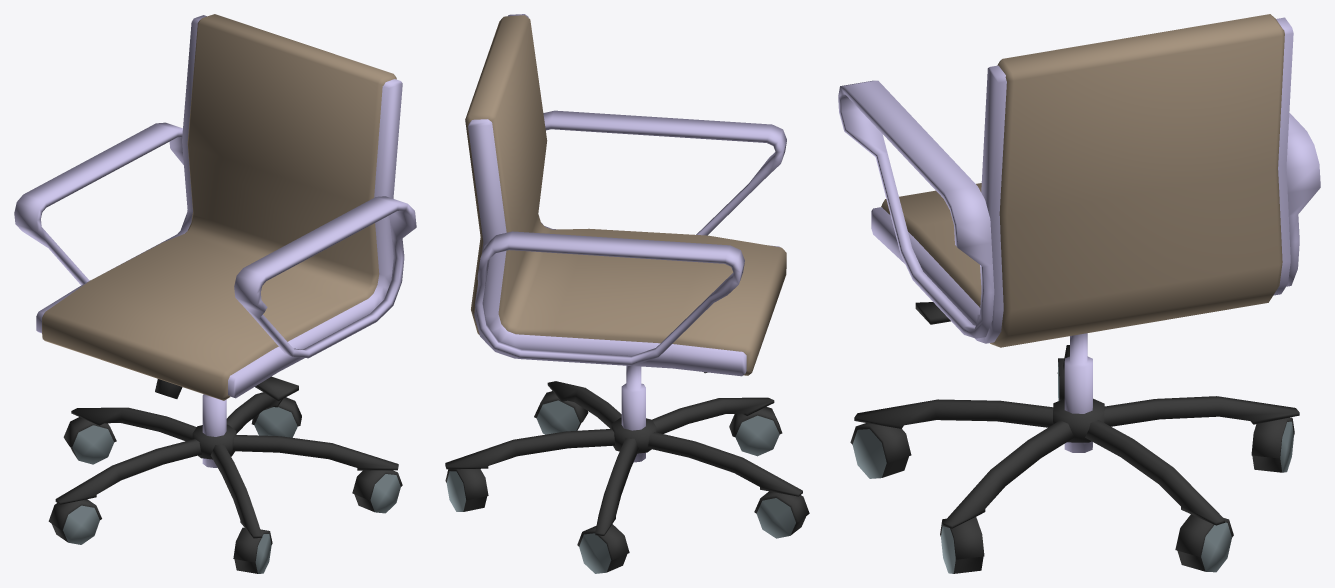
File: chair.glb
3 views of the same model, side by side, from view 1: azimuth 30°, elevation 25°; view 2: azimuth 150°, elevation 25°; view 3: azimuth 270°, elevation 25° (orthographic). The views are drawn at different scales.
Parts seen in each view (by area): view 1: Object_630.008, Object_631.008, Object_632.008, Object_633.008; view 2: Object_630.008, Object_631.008, Object_632.008, Object_633.008; view 3: Object_630.008, Object_631.008, Object_632.008, Object_633.008.
Boxes of the visible parts, bbox=[...] form: Object_630.008: bbox=[42, 14, 396, 400]; Object_631.008: bbox=[14, 15, 416, 467]; Object_632.008: bbox=[48, 376, 402, 573]; Object_633.008: bbox=[63, 407, 400, 573]; Object_630.008: bbox=[465, 15, 786, 375]; Object_631.008: bbox=[468, 14, 786, 462]; Object_632.008: bbox=[445, 372, 809, 572]; Object_633.008: bbox=[446, 400, 795, 573]; Object_630.008: bbox=[881, 14, 1284, 347]; Object_631.008: bbox=[838, 17, 1320, 452]; Object_632.008: bbox=[850, 302, 1299, 573]; Object_633.008: bbox=[852, 362, 1293, 573].
Size of the model in its own units: 0.5554 by 0.6913 by 0.5762.
